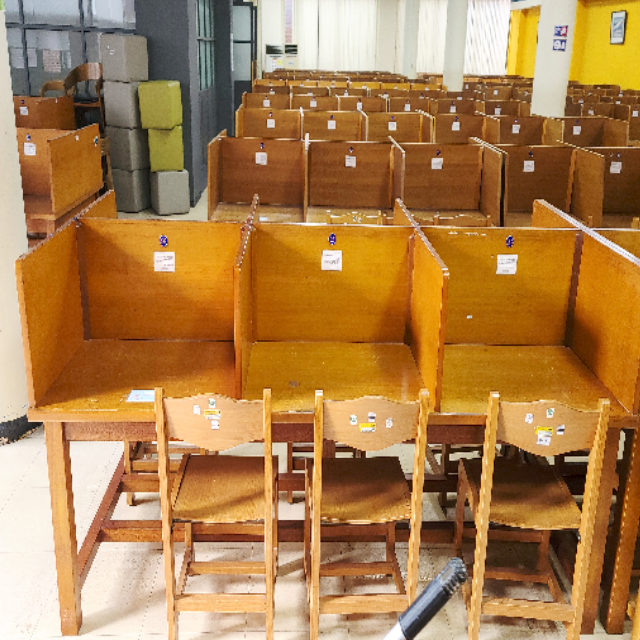empty: (27, 225, 238, 510), (242, 223, 444, 505), (454, 231, 640, 507)
